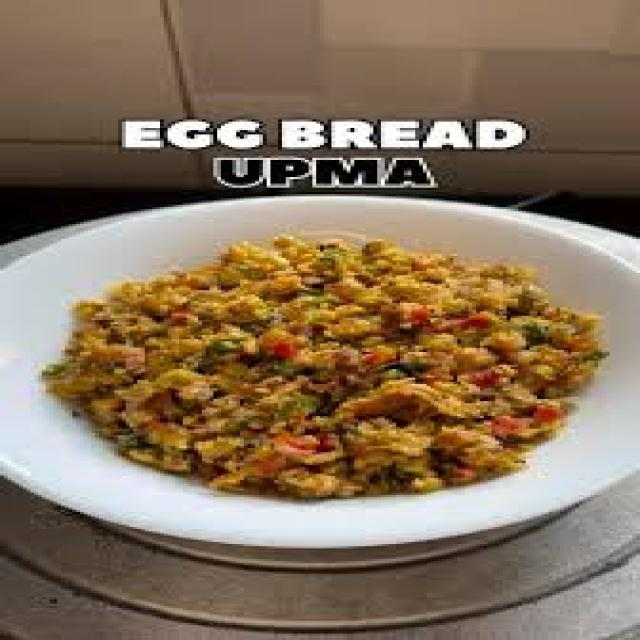POHA: (46, 237, 590, 491)
